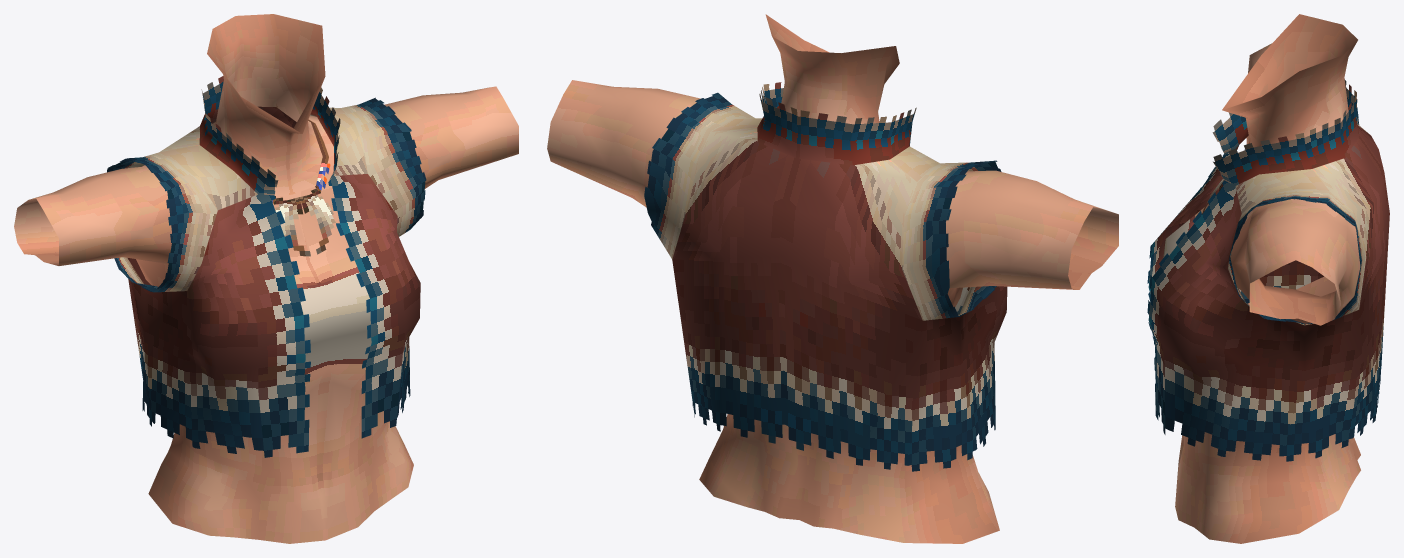
Rendered from f_body213.glb.
3 views of the same model, side by side, from view 1: azimuth 30°, elevation 25°; view 2: azimuth 150°, elevation 25°; view 3: azimuth 270°, elevation 25° (orthographic). The views are drawn at different scales.
Size of the model in its own units: 61.81 by 58.88 by 27.76.
Materials: 1 (1 with a texture image).
